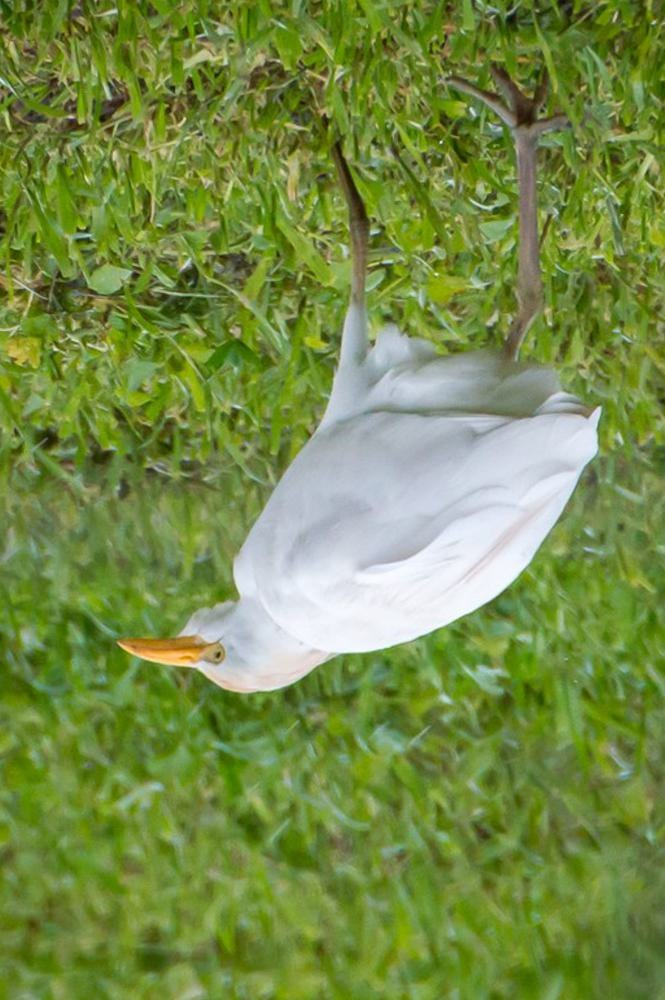egret: (109, 70, 580, 697)
